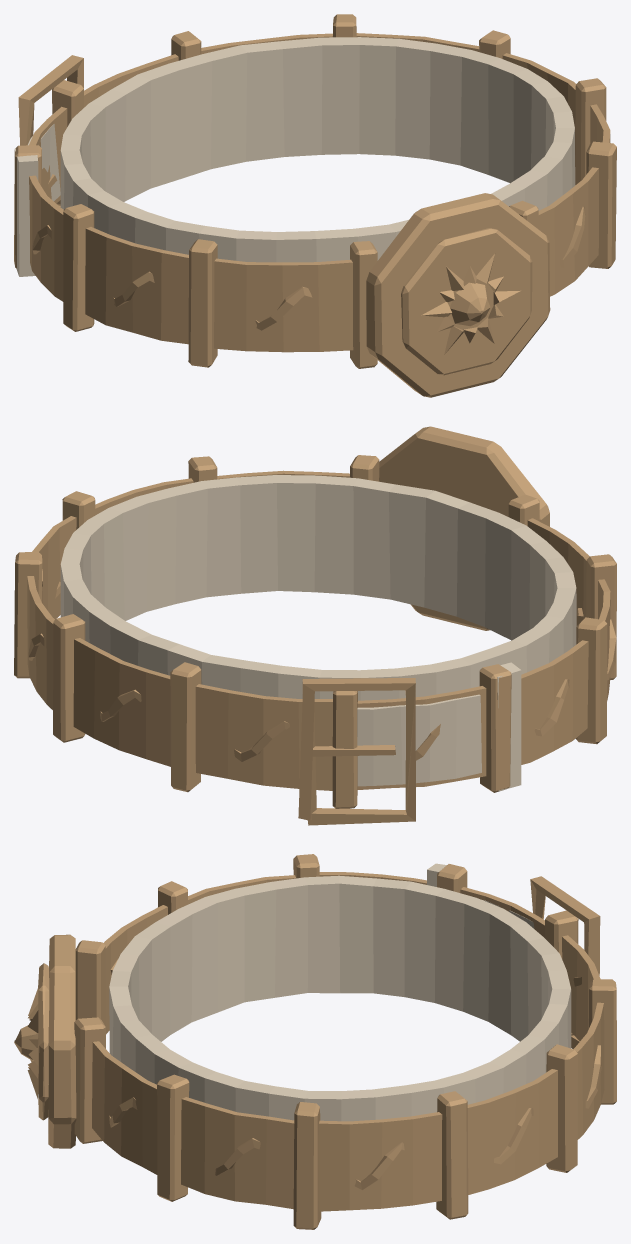
The picture shows the model from 3 angles, top to bottom: view 1: azimuth 30°, elevation 25°; view 2: azimuth 150°, elevation 25°; view 3: azimuth 270°, elevation 25°; orthographic projection.
Visible parts, largest first — view 1: belt_strap, buckle_plate, plaque_9, buckle_plate_inner, plaque_8, plaque_0, rib_9, rib_8, plaque_7, rib_1, rib_10, rib_2 (+17 smaller); view 2: belt_strap, plaque_5, buckle_plate, plaque_4, strap_end, buckle_frame, plaque_7, rib_5, rib_7, rib_4, rib_6, rib_8 (+17 smaller); view 3: belt_strap, plaque_2, plaque_1, plaque_3, buckle_plate, plaque_0, rib_3, rib_2, rib_1, rib_4, rib_0, plaque_4 (+15 smaller).
Part boxes in pixels (bbox=[...]): belt_strap: bbox=[60, 37, 575, 262]; buckle_plate: bbox=[366, 193, 550, 397]; plaque_9: bbox=[214, 258, 353, 352]; buckle_plate_inner: bbox=[401, 228, 532, 375]; plaque_8: bbox=[85, 227, 188, 344]; plaque_0: bbox=[538, 167, 598, 296]; rib_9: bbox=[188, 239, 217, 367]; rib_8: bbox=[63, 204, 94, 331]; plaque_7: bbox=[29, 175, 63, 301]; rib_1: bbox=[586, 141, 616, 268]; rib_10: bbox=[350, 241, 377, 368]; rib_2: bbox=[575, 78, 606, 184]; belt_strap: bbox=[60, 475, 576, 700]; plaque_5: bbox=[195, 684, 332, 790]; buckle_plate: bbox=[379, 426, 549, 630]; plaque_4: bbox=[73, 638, 170, 766]; strap_end: bbox=[357, 694, 481, 786]; buckle_frame: bbox=[298, 678, 415, 825]; plaque_7: bbox=[521, 640, 588, 764]; rib_5: bbox=[170, 662, 201, 792]; rib_7: bbox=[479, 664, 511, 792]; rib_4: bbox=[53, 614, 85, 742]; rib_6: bbox=[332, 691, 357, 808]; rib_8: bbox=[575, 617, 607, 744]; belt_strap: bbox=[109, 875, 571, 1121]; plaque_2: bbox=[318, 1112, 442, 1211]; plaque_1: bbox=[181, 1097, 294, 1209]; plaque_3: bbox=[467, 1069, 557, 1194]; buckle_plate: bbox=[48, 934, 76, 1148]; plaque_0: bbox=[92, 1041, 157, 1174]; rib_3: bbox=[436, 1091, 468, 1219]; rib_2: bbox=[293, 1102, 321, 1229]; rib_1: bbox=[157, 1074, 189, 1201]; rib_4: bbox=[546, 1044, 577, 1172]; rib_0: bbox=[74, 1017, 105, 1143]; plaque_4: bbox=[573, 1002, 604, 1139].
Bounding box in the file's own units: 0.3623 × 0.1183 × 0.3538.
